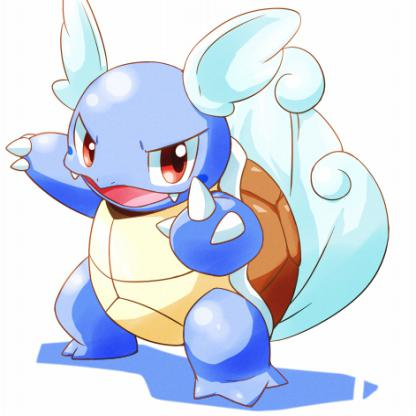Wartortle: (7, 1, 391, 410)
